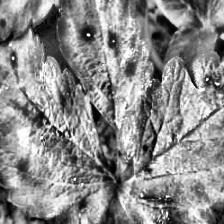Leaf Spot: (0, 25, 119, 224), (109, 49, 224, 224), (55, 0, 154, 178), (0, 0, 65, 43)
